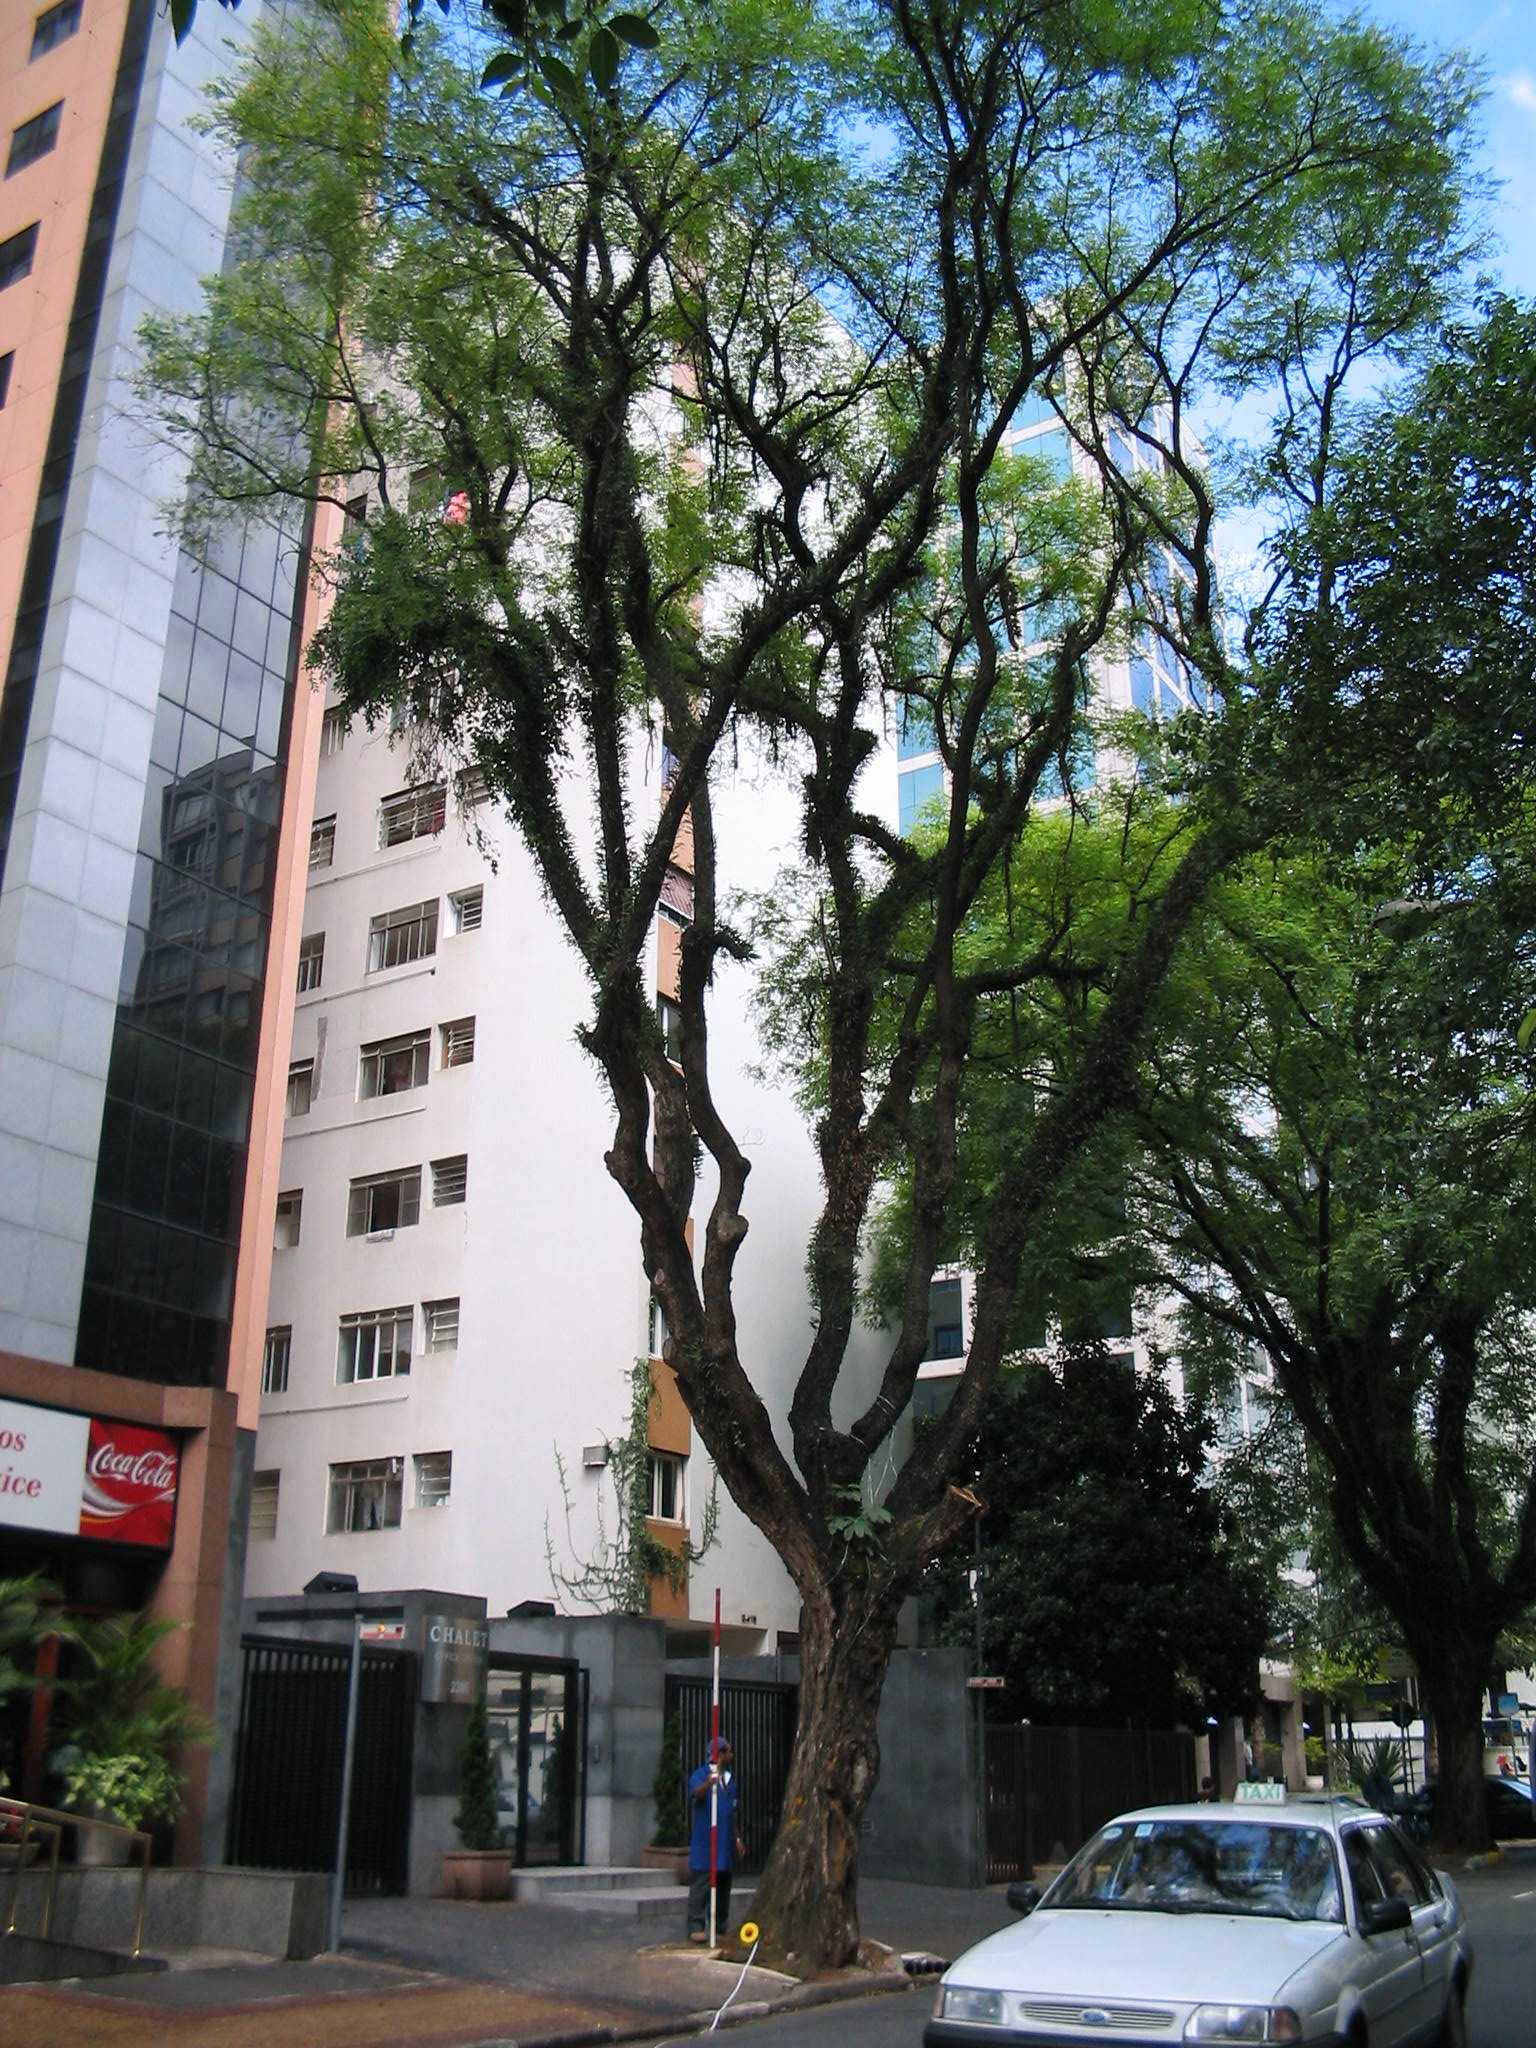crown: (131, 11, 1486, 884)
stem: (741, 1590, 939, 1967), (1378, 1640, 1531, 1846)
stick: (682, 1587, 752, 1945)
tree: (123, 8, 1489, 1975), (1125, 832, 1536, 1848)
